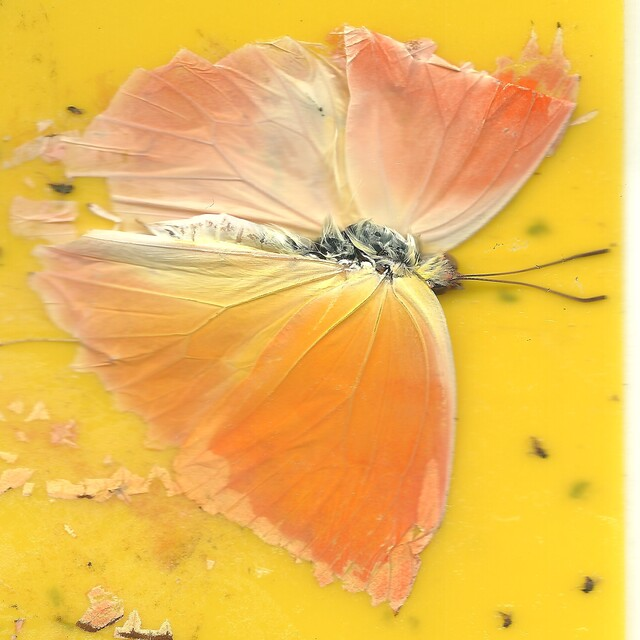Lepidoptera: (28, 24, 612, 616)
